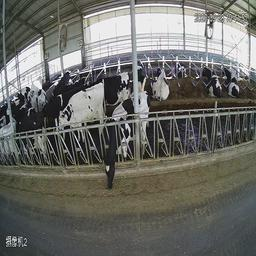cow: (104, 92, 152, 193), (58, 82, 105, 151), (12, 104, 49, 163), (195, 64, 224, 102), (151, 64, 174, 105), (100, 61, 131, 91), (219, 61, 241, 101), (29, 77, 46, 100), (174, 55, 188, 80), (138, 56, 147, 88)
